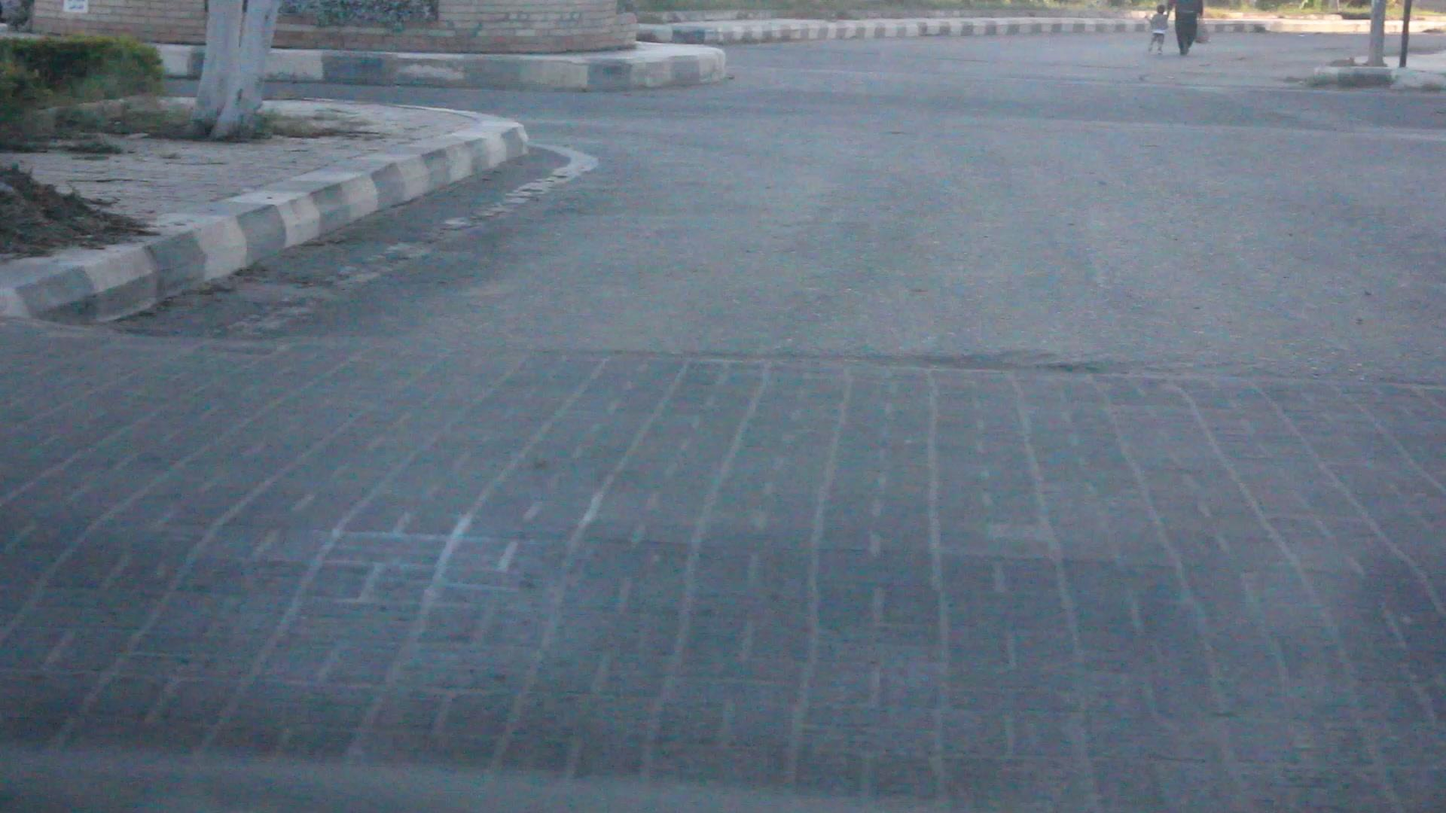Bump: (2, 337, 1446, 813)
